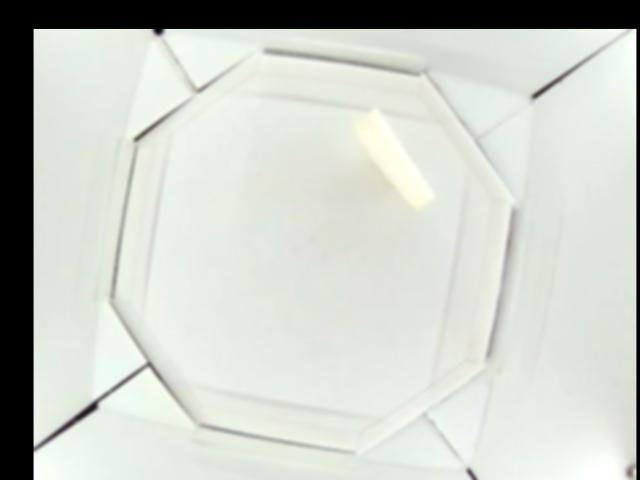Mooli: (352, 106, 437, 212)
